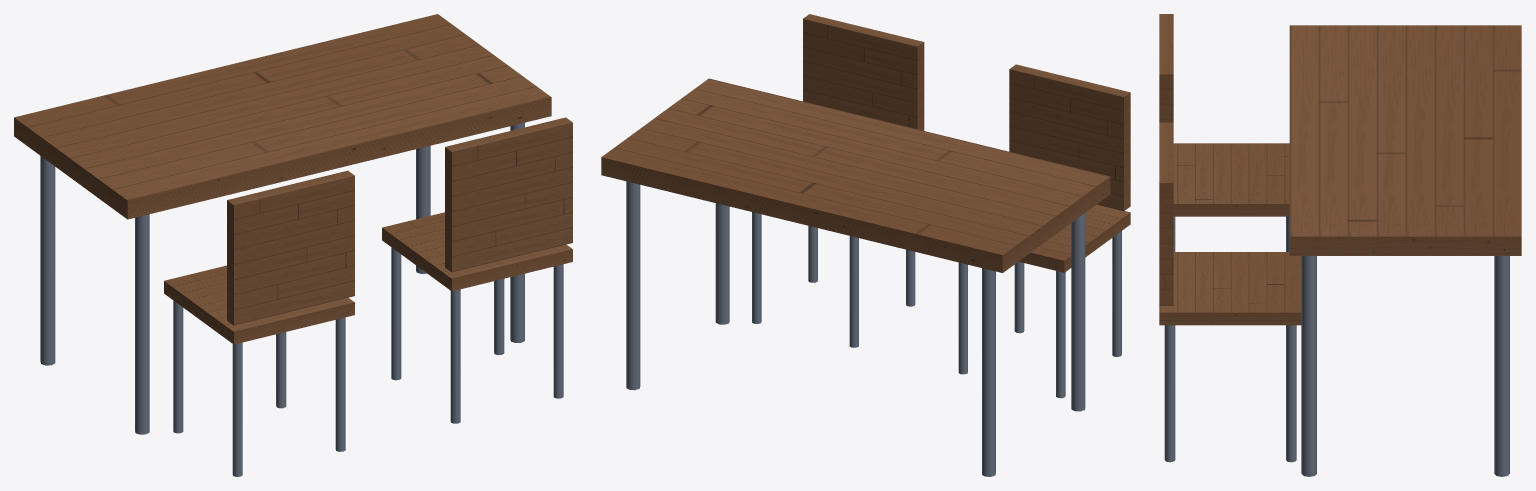
The model's file is ch5_prop_aula_table_chair.glb.
3 views of the same model, side by side, from view 1: azimuth 30°, elevation 25°; view 2: azimuth 150°, elevation 25°; view 3: azimuth 270°, elevation 25° (orthographic). The views are drawn at different scales.
Visible parts, largest first — view 1: ch5_prop_aula_table_chair; view 2: ch5_prop_aula_table_chair; view 3: ch5_prop_aula_table_chair.
Part boxes in pixels (left/top/right/bottom): ch5_prop_aula_table_chair: left=14, top=14, right=572, bottom=476; ch5_prop_aula_table_chair: left=601, top=14, right=1130, bottom=476; ch5_prop_aula_table_chair: left=1159, top=14, right=1521, bottom=476.
Bounding box in the file's own units: 1.4 × 0.87 × 1.01.
Materials: 2 (1 with a texture image).
